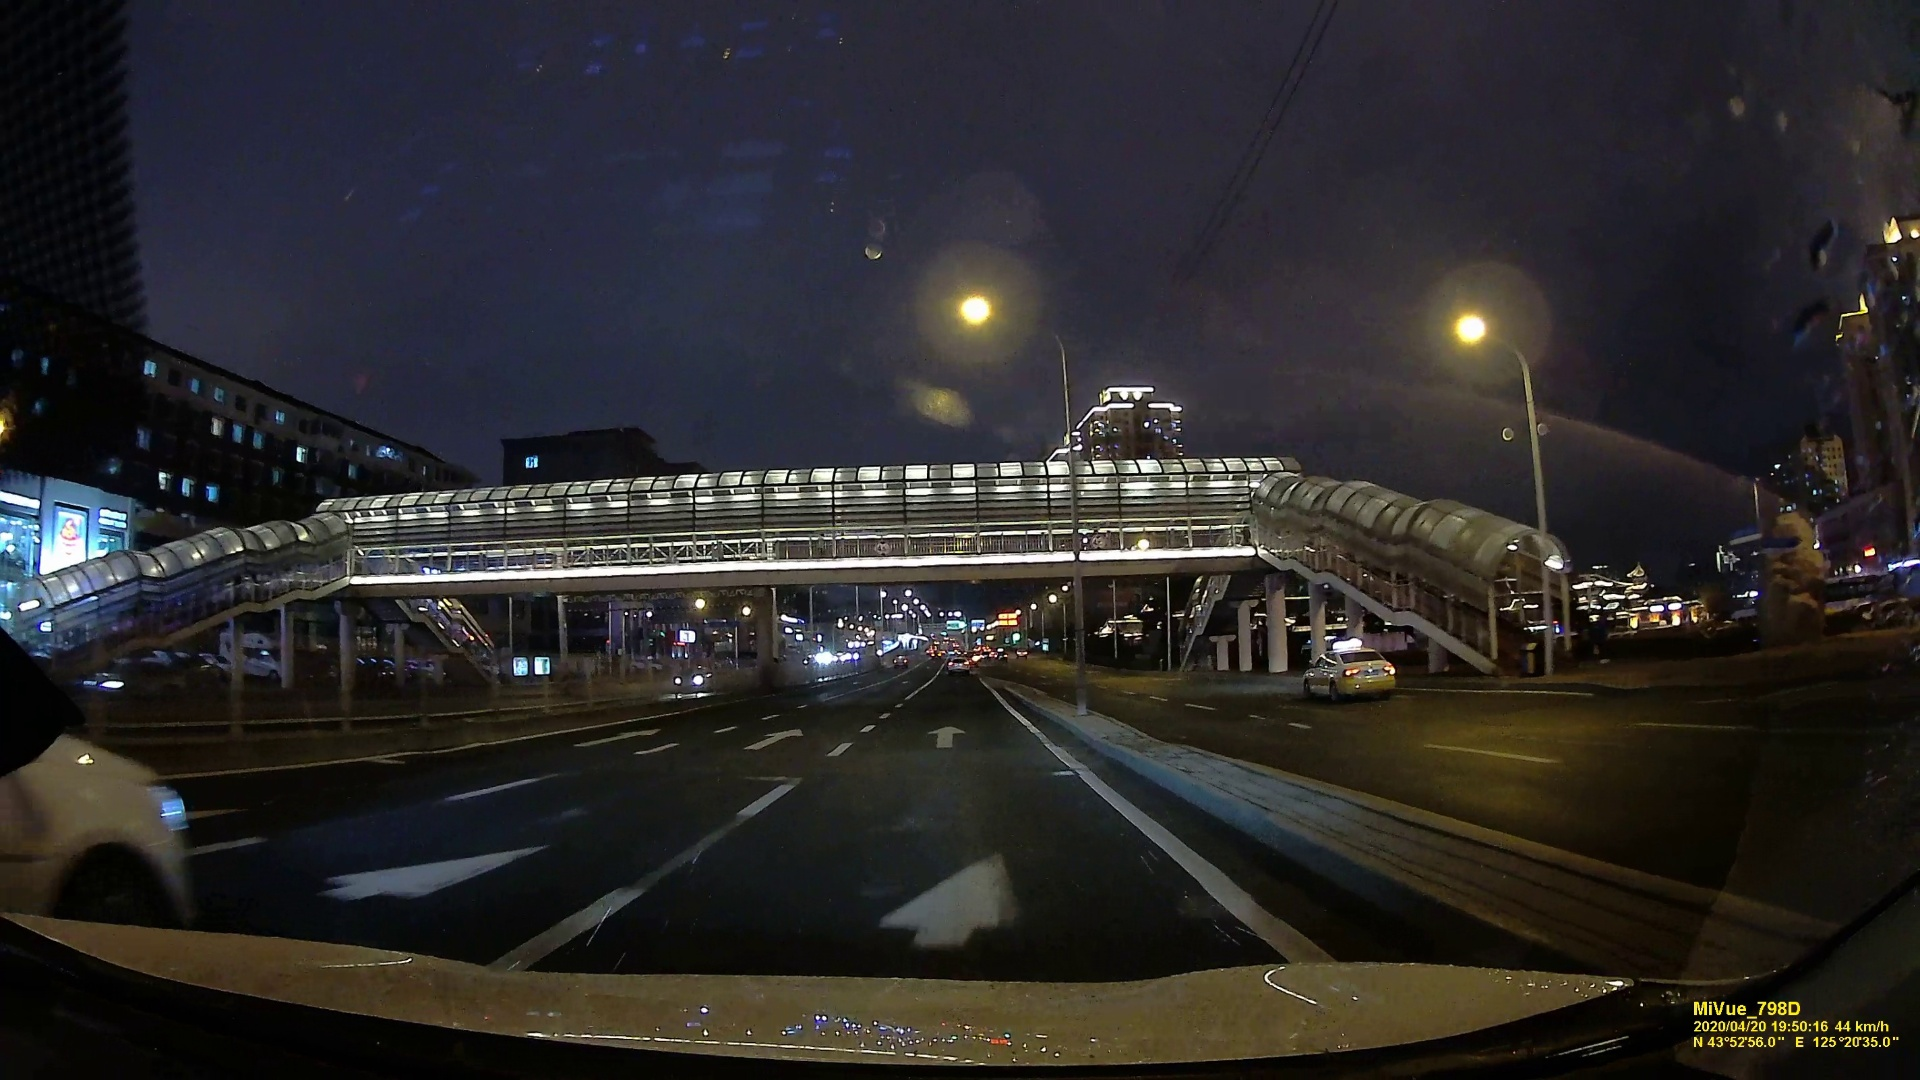traffic_sign: (1091, 533, 1108, 551), (876, 541, 891, 556)
vehicle: (1302, 647, 1396, 699), (673, 666, 716, 692), (949, 655, 971, 675)
